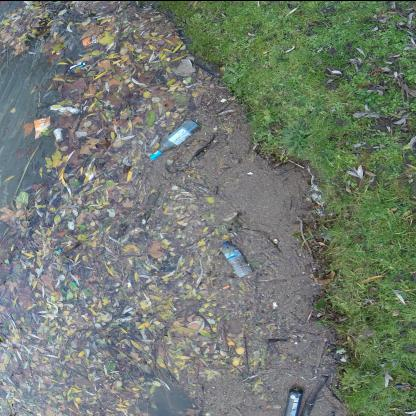cam: (149, 118, 201, 160)
metal: (282, 386, 305, 415)
plastik: (221, 240, 252, 278)
